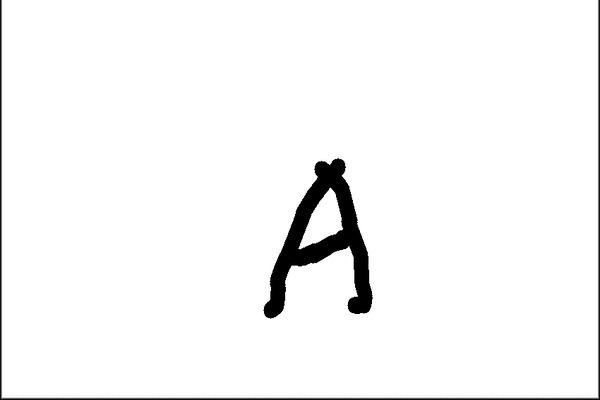A: (254, 155, 385, 325)
